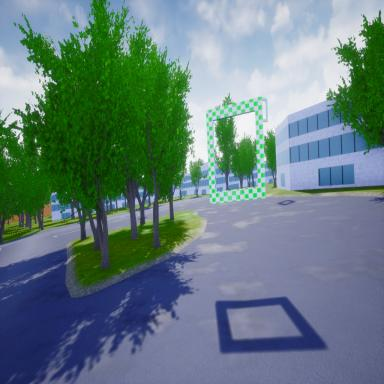gate: (205, 93, 266, 209)
